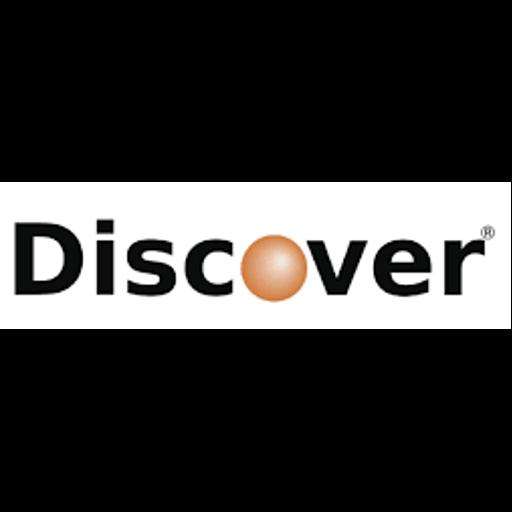Discover: (0, 182, 511, 329)
